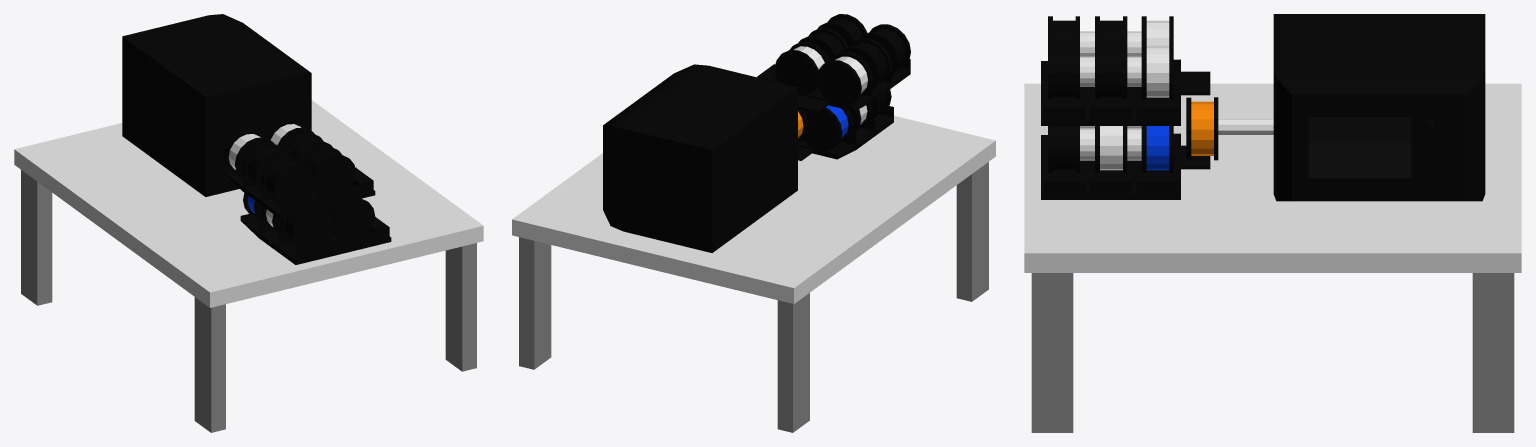
Rendered from Estação de Impressão 3D Industrial.fbx.
3 views of the same model, side by side, from view 1: azimuth 30°, elevation 25°; view 2: azimuth 150°, elevation 25°; view 3: azimuth 270°, elevation 25° (orthographic). The views are drawn at different scales.
Visible parts, largest first — view 1: Cube.003, Cube, Cube.004, Cylinder.003, Cylinder.005, Cylinder.011, Cylinder.015; view 2: Cube.003, Cube, Cylinder.015, Cube.004, Cylinder.003, Cylinder.011, Cylinder.013; view 3: Cube.003, Cube, Cube.004, Cube.001, Cylinder.003, Cylinder.015, Cylinder.011, Cylinder.005, Cylinder.004, Cylinder.013, Cylinder.010, Cylinder.007.
Boxes of the visible parts, x1=… form: Cube.003: x1=14, y1=100, x2=483, y2=432; Cube: x1=122, y1=14, x2=311, y2=196; Cube.004: x1=224, y1=167, x2=391, y2=264; Cylinder.003: x1=261, y1=146, x2=356, y2=205; Cylinder.005: x1=280, y1=198, x2=375, y2=249; Cylinder.011: x1=242, y1=133, x2=332, y2=192; Cylinder.015: x1=224, y1=119, x2=314, y2=179; Cube.003: x1=512, y1=115, x2=995, y2=432; Cube: x1=603, y1=64, x2=797, y2=252; Cylinder.015: x1=775, y1=42, x2=872, y2=105; Cube.004: x1=757, y1=59, x2=910, y2=160; Cylinder.003: x1=817, y1=14, x2=910, y2=75; Cylinder.011: x1=798, y1=28, x2=891, y2=89; Cylinder.013: x1=803, y1=105, x2=853, y2=151; Cube.003: x1=1024, y1=83, x2=1521, y2=432; Cube: x1=1273, y1=14, x2=1485, y2=201; Cube.004: x1=1041, y1=59, x2=1210, y2=199; Cube.001: x1=1296, y1=105, x2=1444, y2=191; Cylinder.003: x1=1048, y1=16, x2=1141, y2=98; Cylinder.015: x1=1141, y1=16, x2=1173, y2=98; Cylinder.011: x1=1095, y1=16, x2=1127, y2=98; Cylinder.005: x1=1048, y1=126, x2=1141, y2=172; Cylinder.004: x1=1186, y1=97, x2=1218, y2=160; Cylinder.013: x1=1141, y1=126, x2=1173, y2=172; Cylinder.010: x1=1095, y1=126, x2=1127, y2=172; Cylinder.007: x1=1218, y1=119, x2=1273, y2=134.
Bounding box in the file's own units: 573 × 488 × 710.
